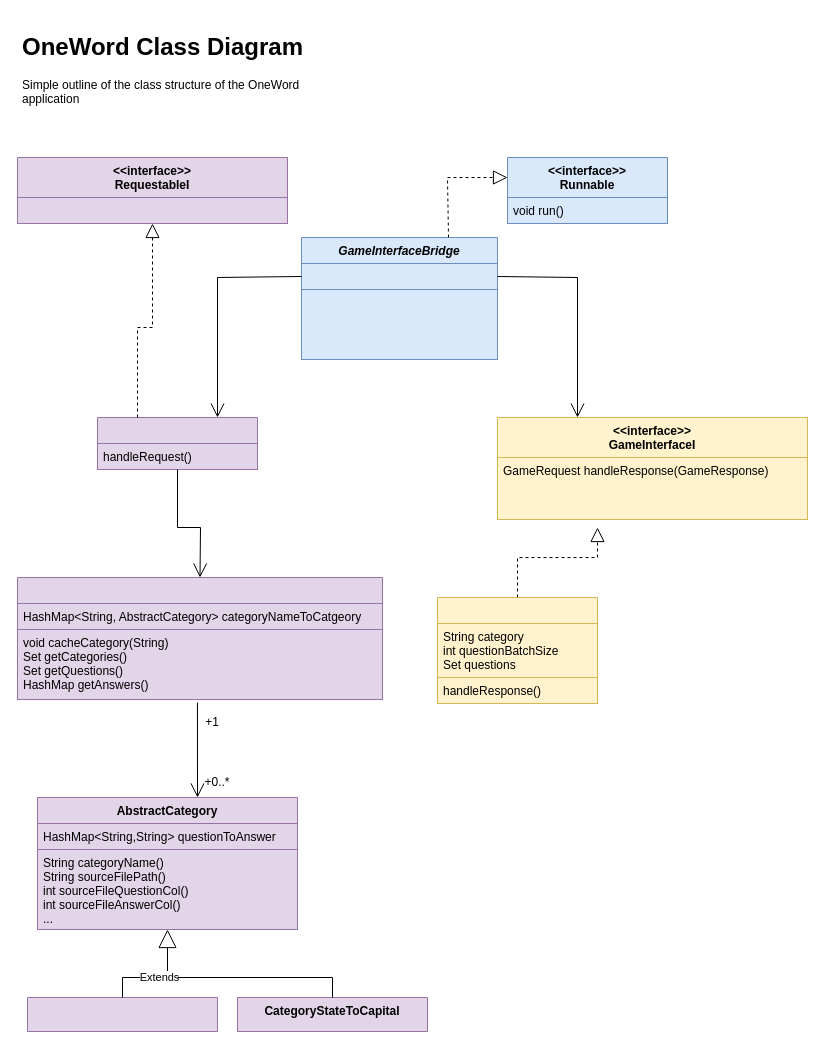
The diagram is 825 pixels wide and 1057 high, and some of its shapes have lost their labels. Each missing label, with the box of its shape:
Boolean keepGoing: (300, 262, 498, 290)
CategoryCache: (16, 576, 382, 700)
CategoryCountryToCapitalCity: (26, 996, 218, 1032)
ConsoleGameInterface: (436, 596, 598, 704)
Game: (96, 416, 258, 470)
GameResponse handleRequest(GameRequest): (16, 196, 288, 224)
void run() void stop(): (300, 288, 498, 360)
